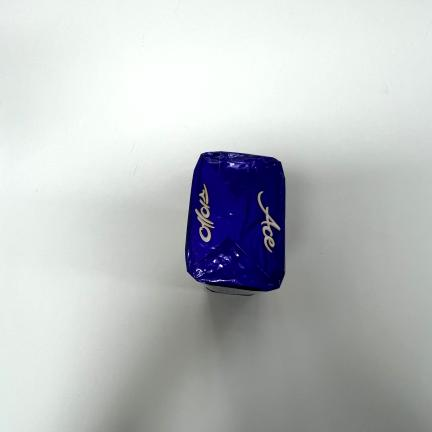cracker_ace: (184, 151, 286, 298)
